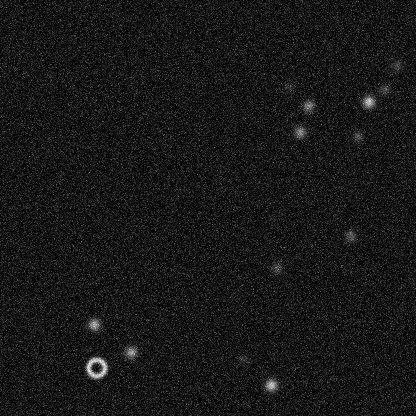Ring: (84, 355, 108, 379)
Spot: (349, 128, 365, 144), (300, 97, 316, 113), (235, 350, 251, 366), (268, 260, 284, 276), (86, 316, 102, 332), (377, 81, 393, 97), (388, 57, 404, 73), (281, 78, 297, 94), (360, 93, 376, 109), (291, 124, 307, 140), (122, 344, 138, 360), (342, 228, 358, 244), (262, 376, 278, 392)
